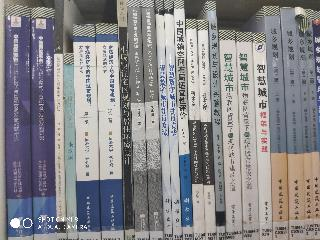book-spine: (5, 5, 32, 239), (95, 25, 124, 240), (280, 7, 305, 239), (74, 25, 100, 240), (264, 7, 288, 239), (126, 1, 149, 239), (32, 9, 55, 240), (142, 1, 163, 240), (219, 30, 242, 240), (300, 10, 320, 239), (174, 1, 193, 240), (237, 32, 258, 240), (164, 1, 182, 240), (207, 1, 225, 239), (186, 19, 205, 240), (117, 0, 134, 239), (155, 1, 172, 240), (198, 21, 216, 240), (253, 33, 272, 240), (297, 9, 313, 239), (54, 1, 66, 240), (64, 53, 77, 239)
